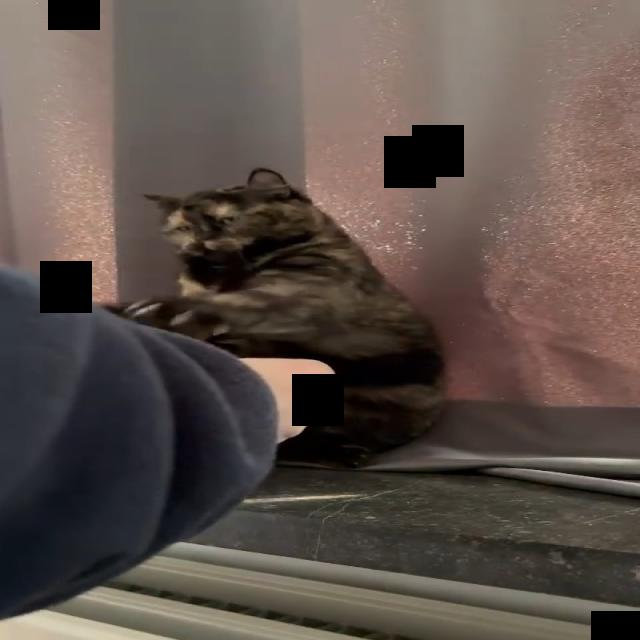authorized: (100, 166, 448, 468)
